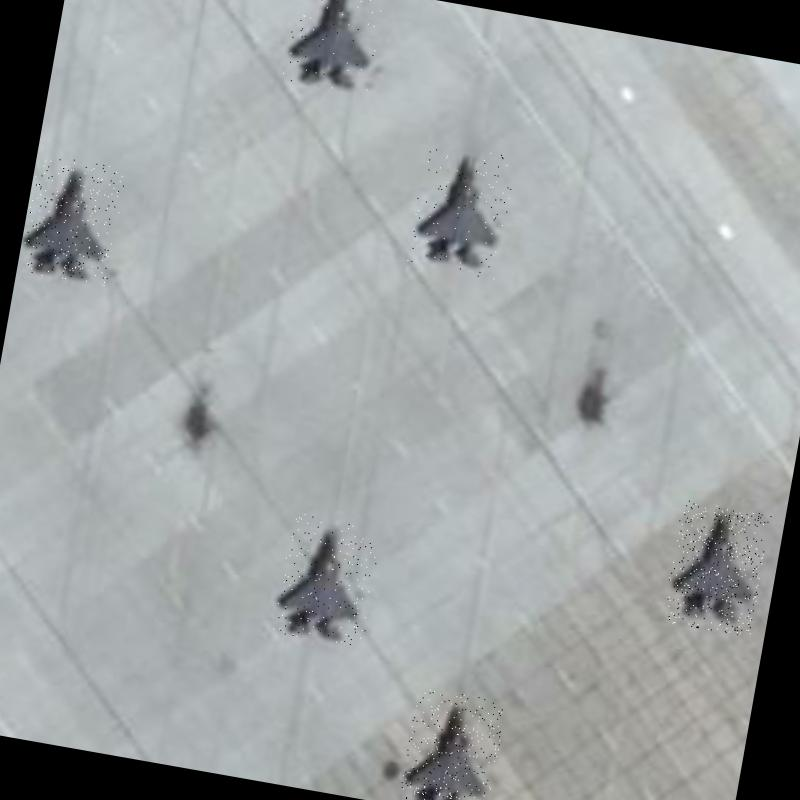A13: (406, 142, 517, 280), (662, 499, 772, 638), (272, 512, 384, 648), (18, 154, 127, 288), (398, 686, 507, 800), (281, 0, 390, 96)
